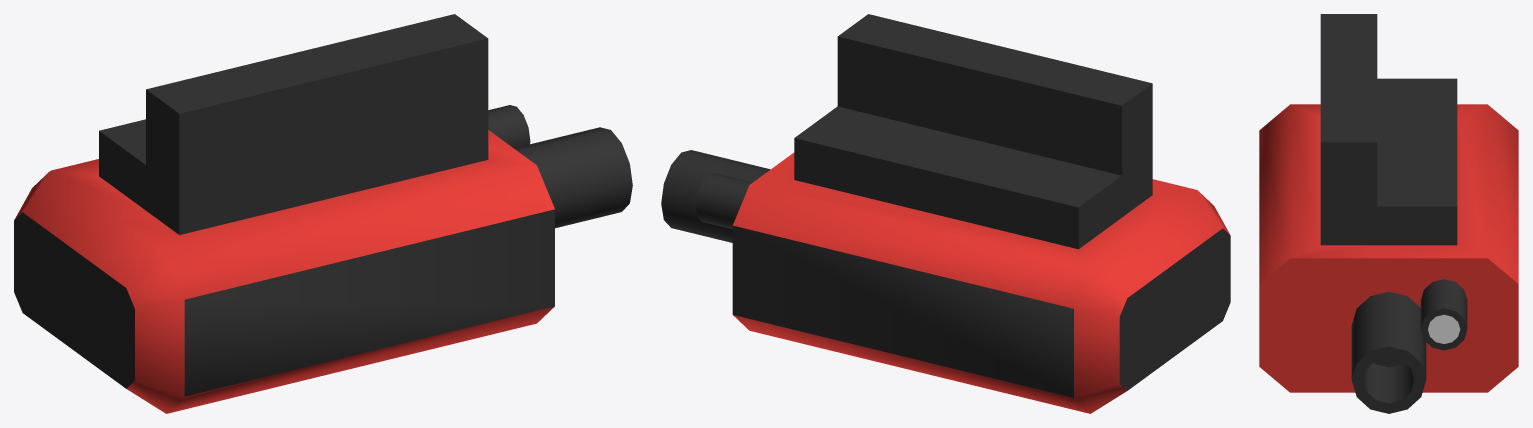
Rendered from turret_top.fbx.
The picture shows the model from 3 angles, left to right: view 1: azimuth 30°, elevation 25°; view 2: azimuth 150°, elevation 25°; view 3: azimuth 270°, elevation 25°; orthographic projection. The views are drawn at different scales.
Parts seen in each view (by area): view 1: Cube; view 2: Cube; view 3: Cube.
Boxes of the visible parts, x1,y1,x2,y2 form: Cube: [14, 14, 632, 413]; Cube: [661, 14, 1230, 413]; Cube: [1259, 14, 1518, 413].
Size of the model in its own units: 1.9 by 0.9479 by 0.9371.
